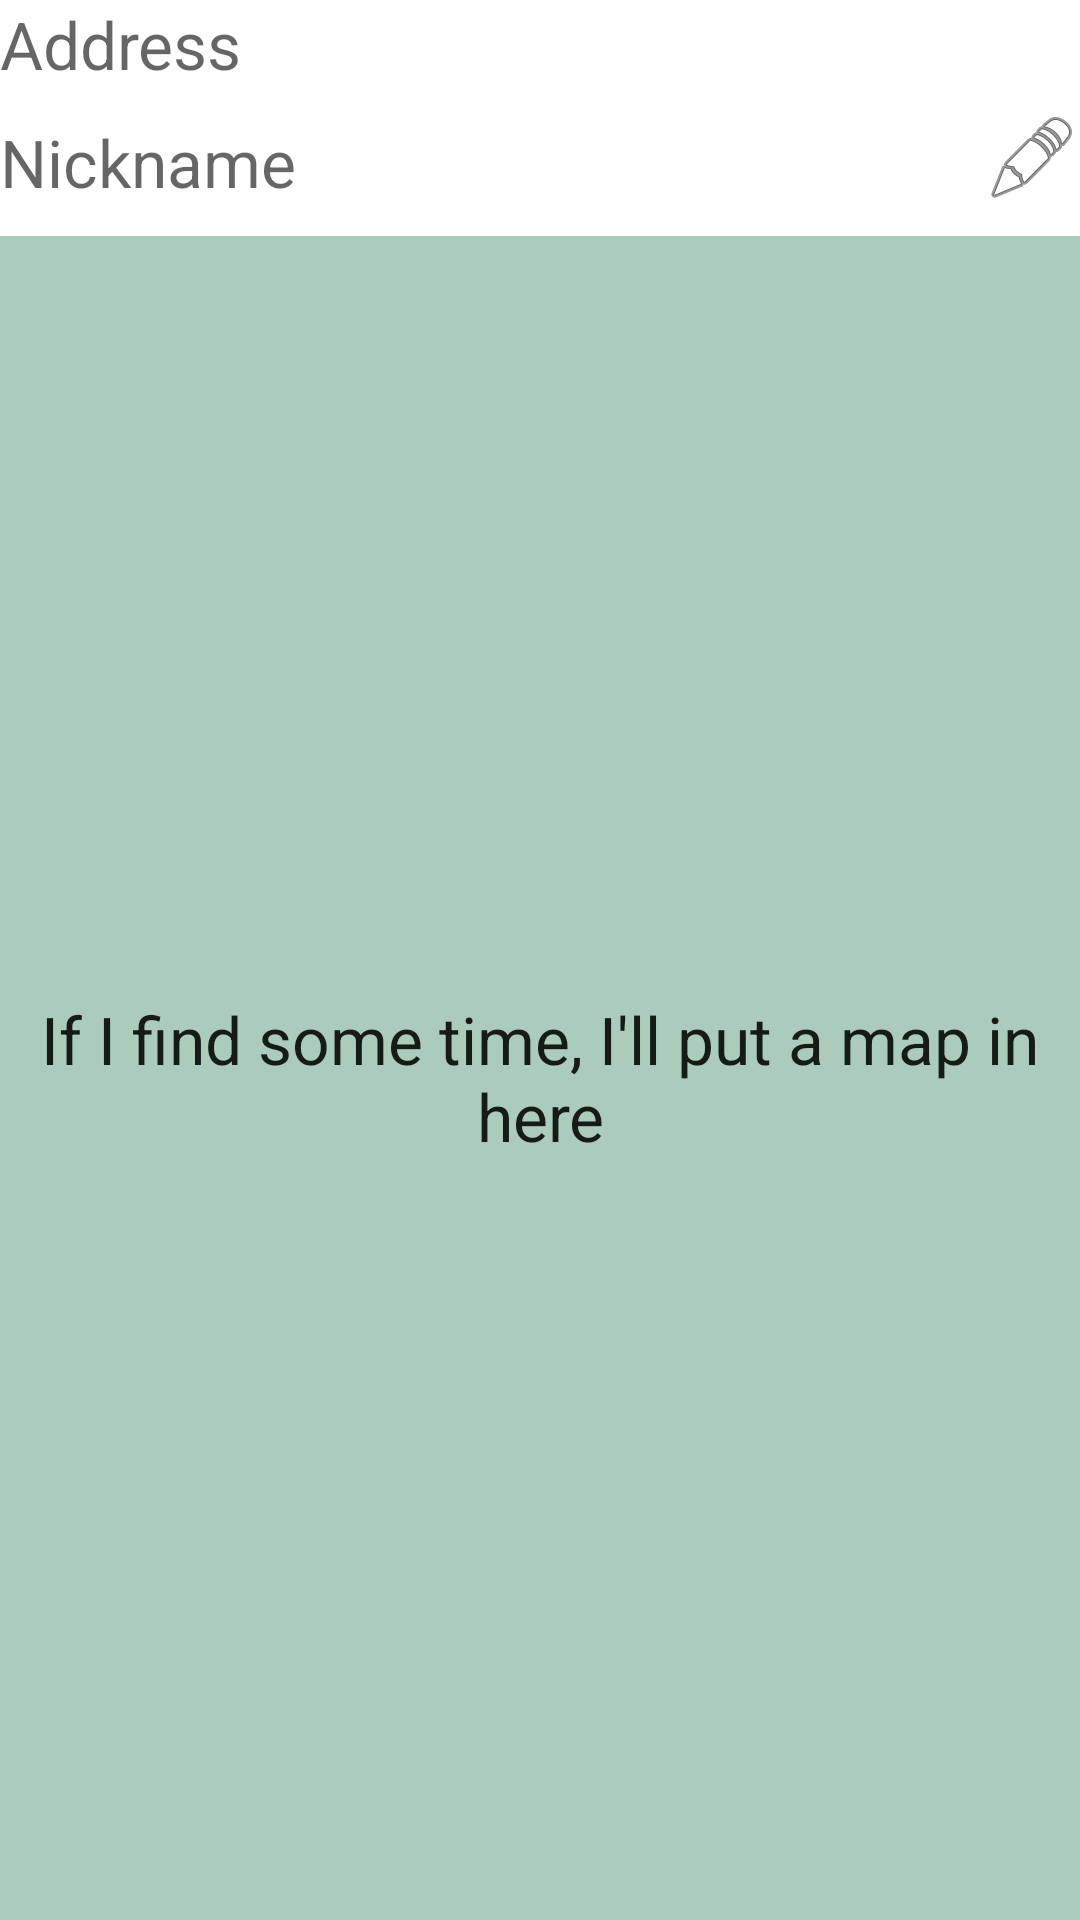

Icon click points for this 1080 x 1920 phone screenshot, format (x=x, y=y):
edit: (x=1031, y=157)
